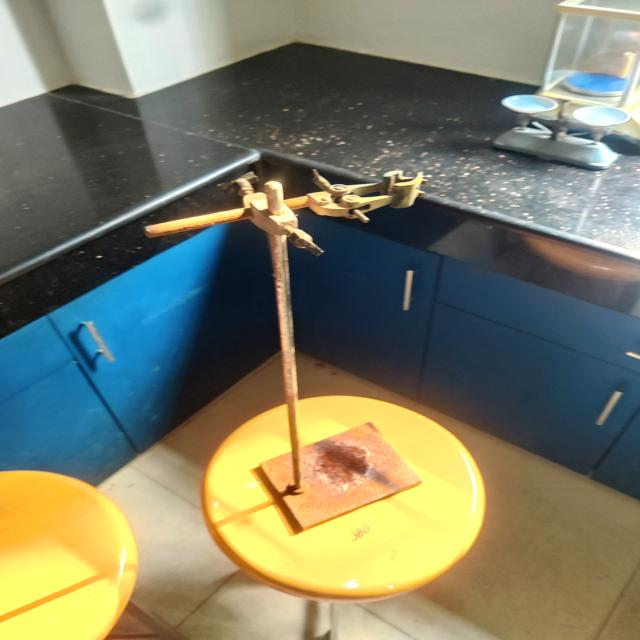Burette_Stands: (94, 117, 478, 557)
